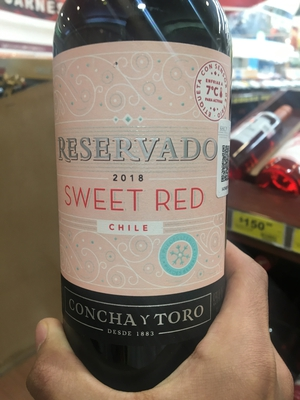reservado sweet red: (47, 4, 253, 400)
